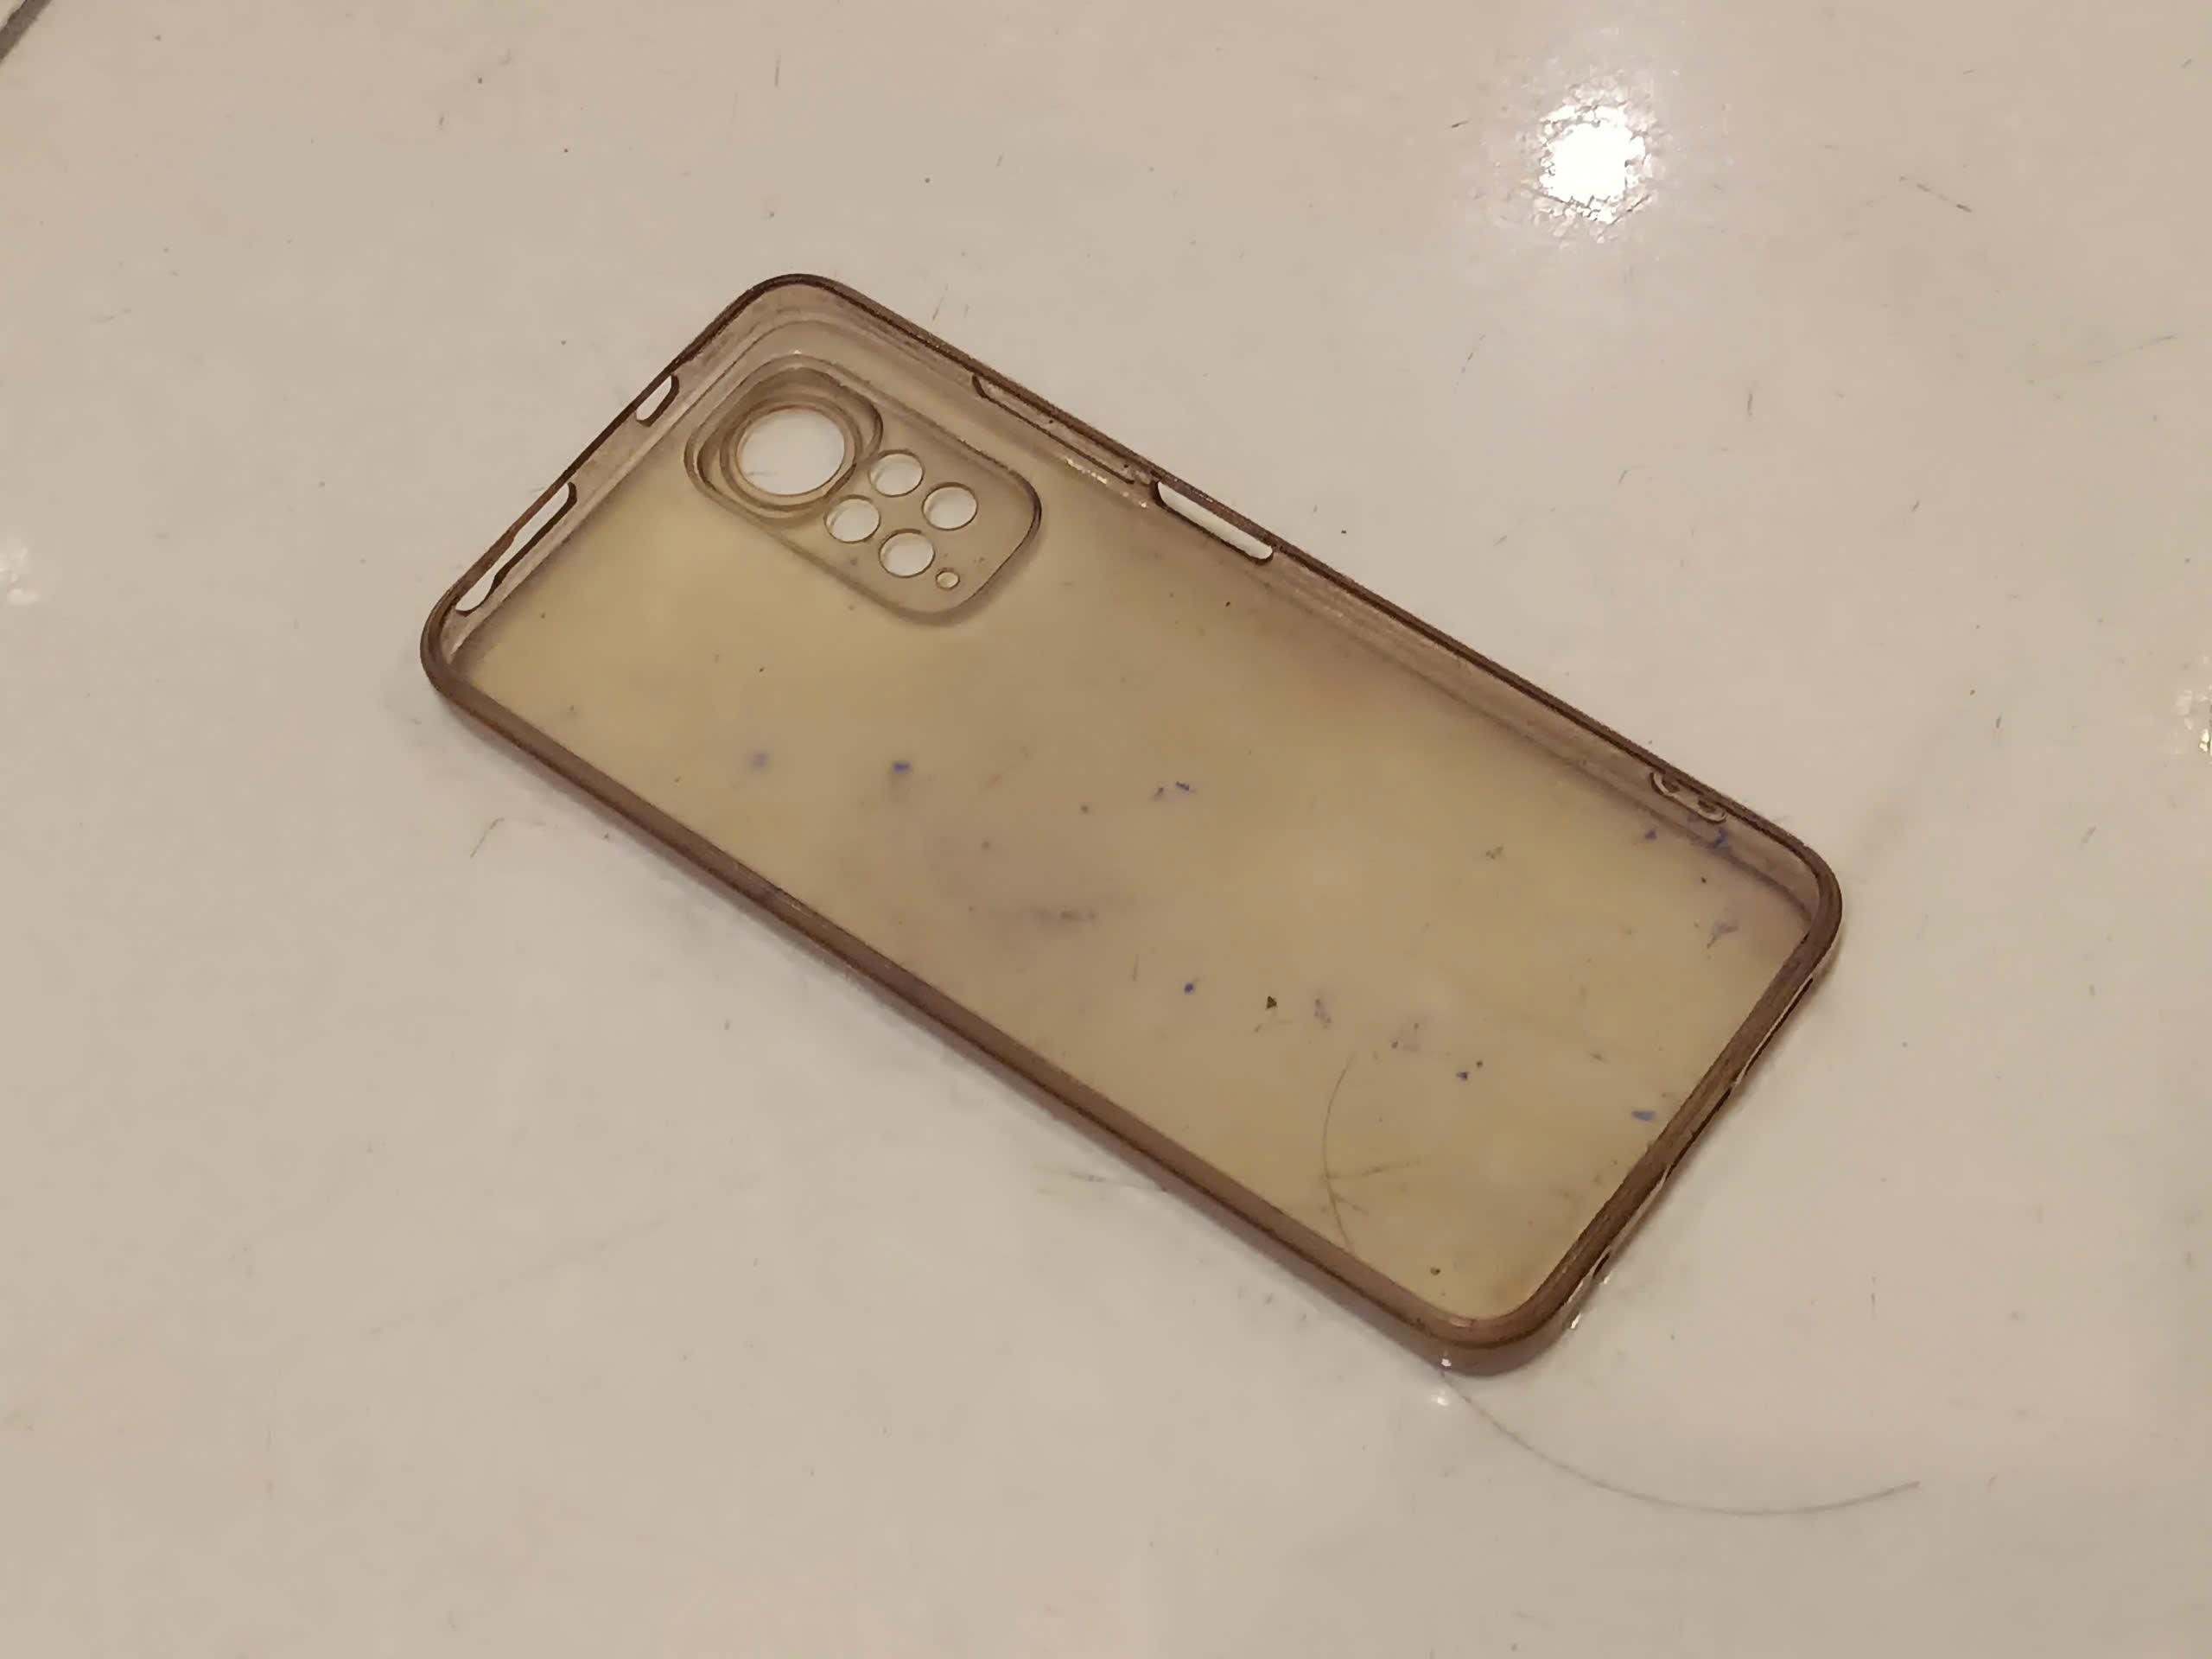Vo co: (415, 265, 1841, 1364)
